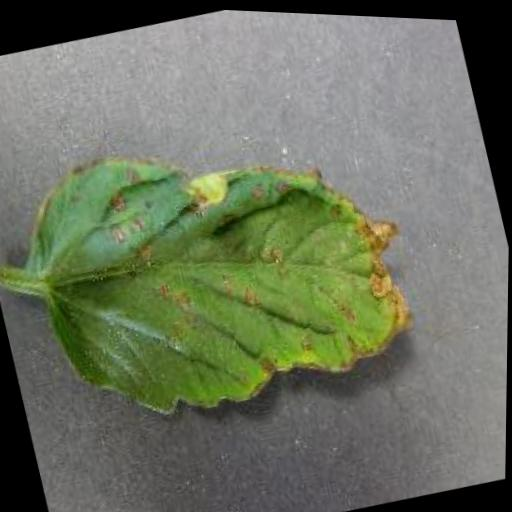Bacterial Spot: (0, 77, 445, 459)
